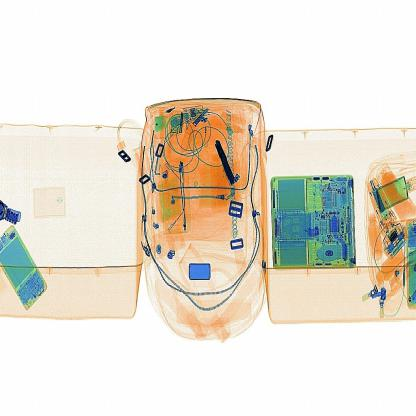knife: (209, 131, 242, 194)
